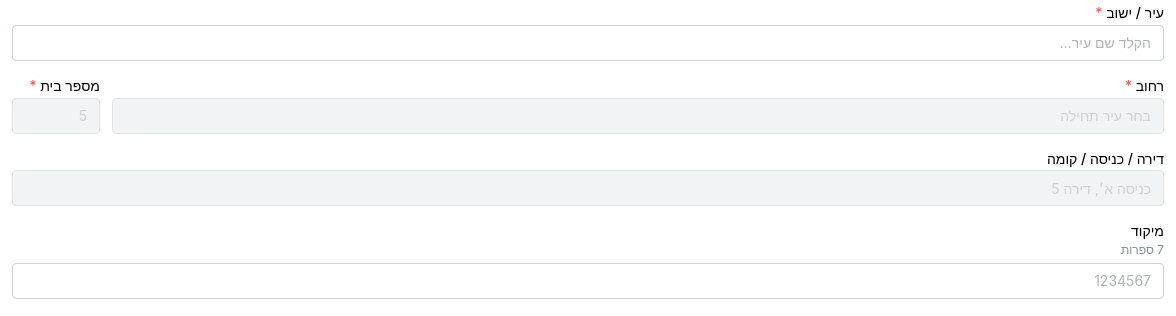
Scenario: AddressAutocomplete › editing city after selection resets and disables street fields
In the field labelled "עיר / ישוב *": [588, 43] box left=12, top=25, right=1164, bottom=61, type "תל אביב - יפו"
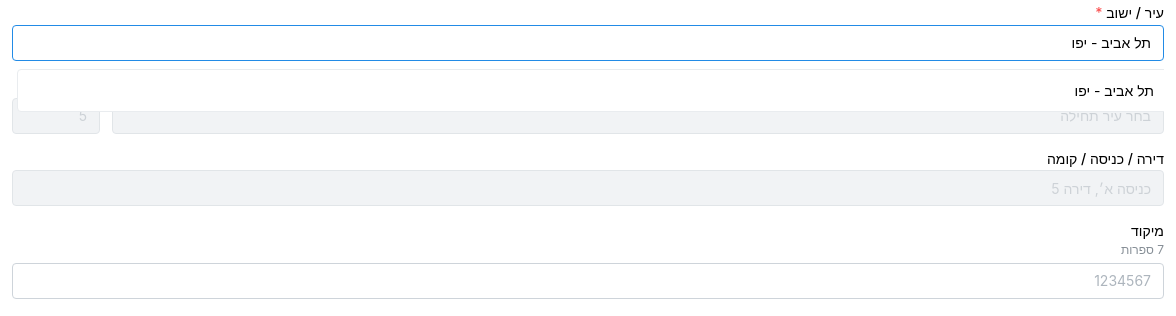
Check: the option "תל אביב - יפו" is shown
Click the option "תל אביב - יפו": [1114, 90] box left=1074, top=82, right=1154, bottom=99
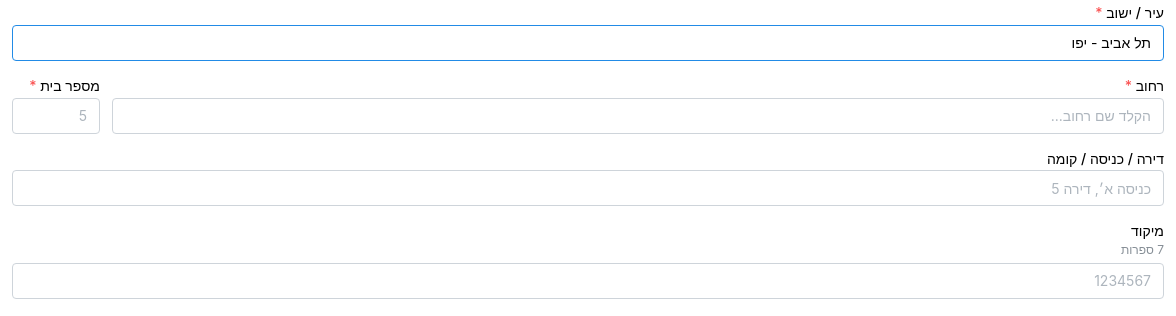
Check: the field labelled "רחוב *" is enabled, box left=112, top=98, right=1164, bottom=134
Clear the field labelled "עיר / ישוב *": [588, 43] box left=12, top=25, right=1164, bottom=61
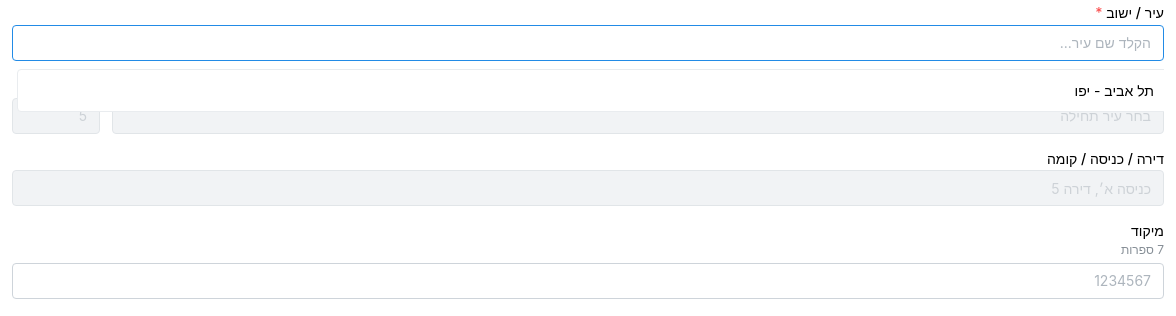
Check: the field labelled "מספר בית *" is disabled, box left=12, top=98, right=100, bottom=134
Check: the field labelled "רחוב *" is disabled, box left=112, top=98, right=1164, bottom=134
